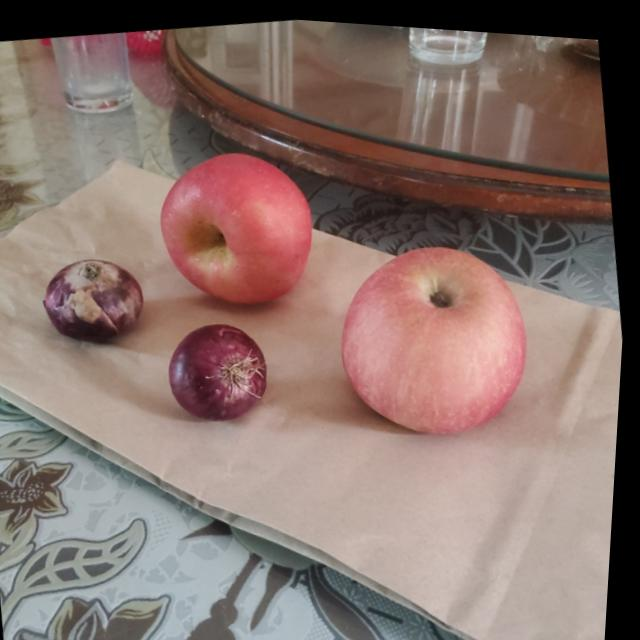apple: (327, 224, 546, 446), (153, 139, 332, 317)
onion: (36, 243, 159, 357), (164, 312, 280, 428)
